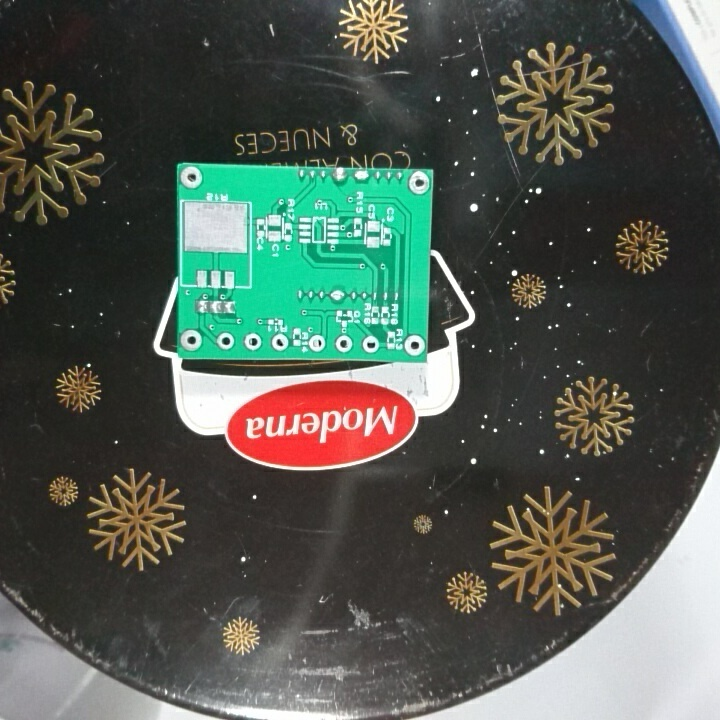F: (179, 166, 205, 192), (179, 326, 203, 352), (406, 171, 431, 195), (402, 333, 425, 356), (270, 331, 291, 352), (216, 331, 237, 352), (242, 331, 262, 353), (308, 331, 326, 355), (361, 334, 380, 356), (334, 333, 354, 353)
P: (330, 167, 351, 184), (328, 287, 347, 305), (352, 168, 370, 183)
